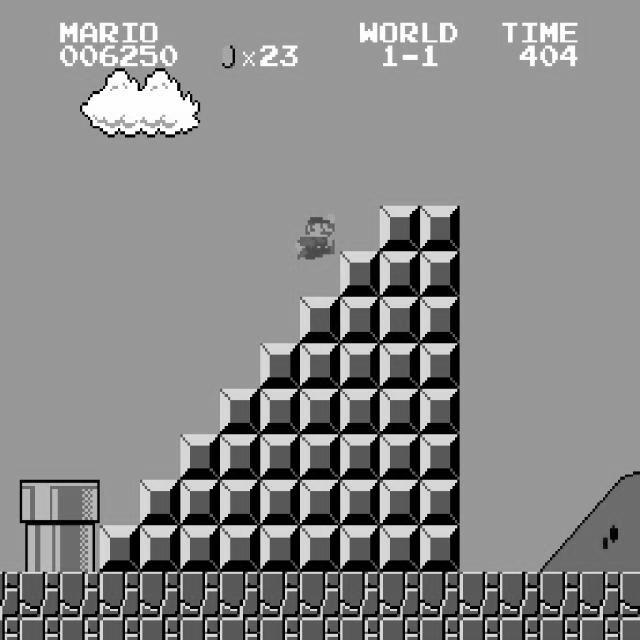11- little_mario: (292, 211, 335, 260)
14- pipe: (20, 526, 60, 572), (60, 526, 100, 572)
15- pipe_head: (20, 480, 60, 526), (60, 480, 100, 526)
17- undestructible_block: (20, 572, 60, 618), (60, 572, 100, 618), (100, 572, 140, 618), (140, 572, 180, 618), (180, 572, 220, 618), (220, 572, 260, 618), (260, 572, 300, 618), (300, 572, 340, 618), (340, 572, 380, 618), (380, 572, 420, 618), (420, 572, 460, 618), (460, 572, 500, 618), (500, 572, 540, 618), (540, 572, 580, 618), (580, 572, 620, 618), (0, 572, 20, 618), (620, 572, 640, 618), (20, 617, 60, 640), (60, 617, 100, 640), (100, 617, 140, 640), (140, 617, 180, 640), (180, 617, 220, 640), (220, 617, 260, 640), (260, 617, 300, 640), (300, 617, 340, 640), (340, 617, 380, 640), (380, 617, 420, 640), (420, 617, 460, 640), (460, 617, 500, 640), (500, 617, 540, 640), (540, 617, 580, 640), (580, 617, 620, 640), (0, 617, 20, 640), (620, 617, 640, 640)
9- hard_block: (100, 526, 140, 572), (140, 480, 180, 526), (140, 526, 180, 572), (180, 434, 220, 480), (180, 480, 220, 526), (180, 526, 220, 572), (220, 388, 260, 434), (220, 434, 260, 480), (220, 480, 260, 526), (220, 526, 260, 572), (260, 388, 300, 434), (260, 434, 300, 480), (260, 480, 300, 526), (260, 526, 300, 572), (300, 297, 340, 343), (300, 388, 340, 434), (300, 434, 340, 480), (300, 480, 340, 526), (300, 526, 340, 572), (340, 252, 380, 298), (340, 297, 380, 343), (340, 388, 380, 434), (340, 434, 380, 480), (340, 480, 380, 526), (340, 526, 380, 572), (380, 252, 420, 298), (380, 297, 420, 343), (380, 388, 420, 434), (380, 434, 420, 480), (380, 480, 420, 526), (380, 526, 420, 572), (420, 252, 460, 298), (420, 297, 460, 343), (420, 388, 460, 434), (420, 434, 460, 480), (420, 480, 460, 526), (420, 526, 460, 572), (260, 343, 300, 388), (300, 343, 340, 388), (340, 343, 380, 388), (380, 206, 420, 251), (380, 343, 420, 388), (420, 206, 460, 251), (420, 343, 460, 388)
